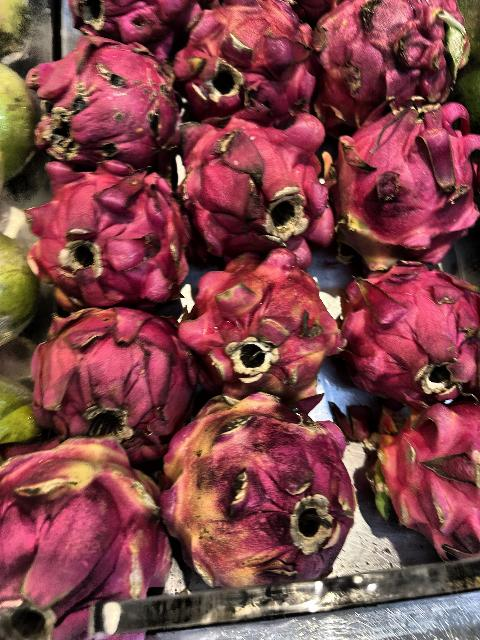buah-naga-belum-matang: (157, 393, 359, 591), (0, 438, 176, 636), (186, 238, 334, 402), (342, 105, 480, 268)
buah-naga-matang: (22, 152, 192, 304), (15, 304, 200, 434), (174, 115, 342, 258), (330, 260, 480, 402), (25, 36, 186, 162), (366, 392, 480, 560), (171, 0, 319, 116), (310, 0, 472, 96)
